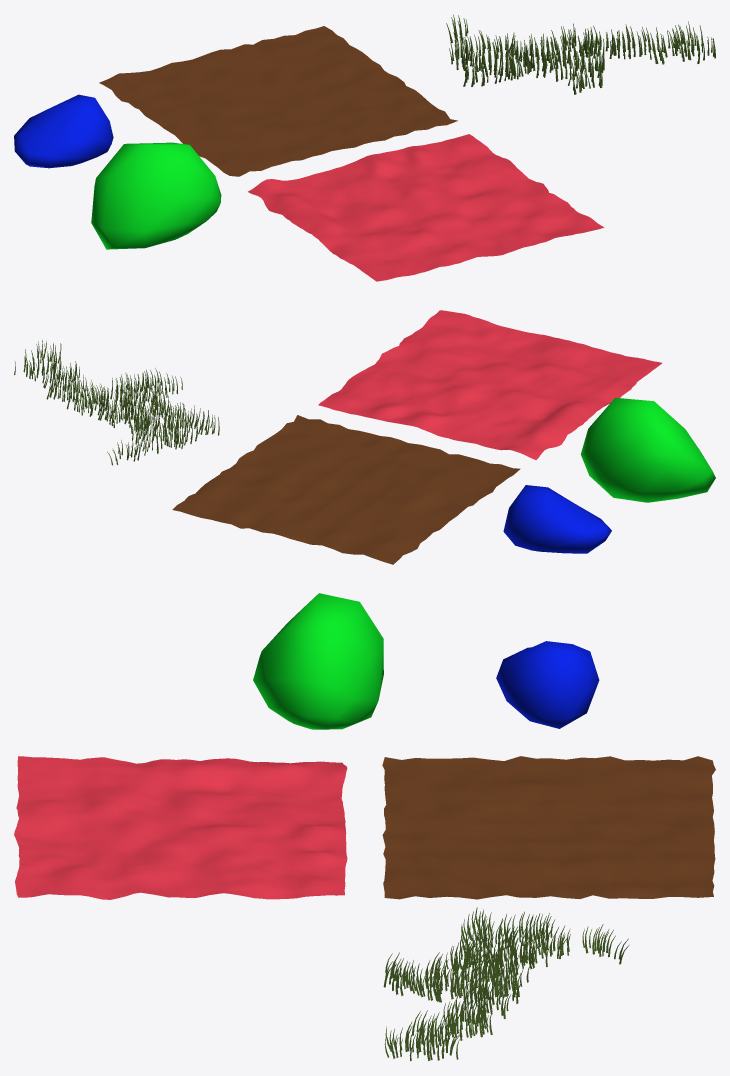
Rendered from GroundPropsv2.fbx.
3 views of the same model, one above another, from view 1: azimuth 30°, elevation 25°; view 2: azimuth 150°, elevation 25°; view 3: azimuth 270°, elevation 25° (orthographic). The views are drawn at different scales.
Visible parts, largest first — view 1: Dirt1, Dirt2, Rock2, Grass, Rock1; view 2: Dirt1, Dirt2, Rock2, Grass, Rock1; view 3: Dirt1, Dirt2, Rock2, Grass, Rock1.
Boxes of the visible parts, x1,y1,x2,y2 form: Dirt1: (99, 26, 457, 176); Dirt2: (248, 134, 604, 281); Rock2: (91, 142, 221, 249); Grass: (446, 14, 715, 94); Rock1: (14, 94, 113, 168); Dirt1: (172, 415, 520, 564); Dirt2: (318, 310, 662, 459); Rock2: (580, 397, 715, 502); Grass: (14, 340, 219, 465); Rock1: (503, 485, 611, 553); Dirt1: (382, 756, 715, 899); Dirt2: (14, 756, 347, 899); Rock2: (253, 593, 383, 729); Grass: (383, 907, 629, 1061); Rock1: (496, 641, 599, 728).
Size of the model in its own units: 21281 by 2884 by 15766.
